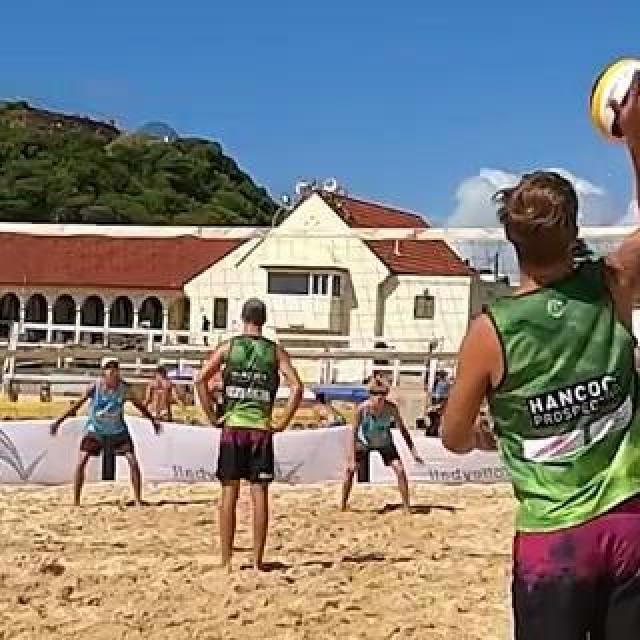volleyball: (591, 56, 639, 138)
